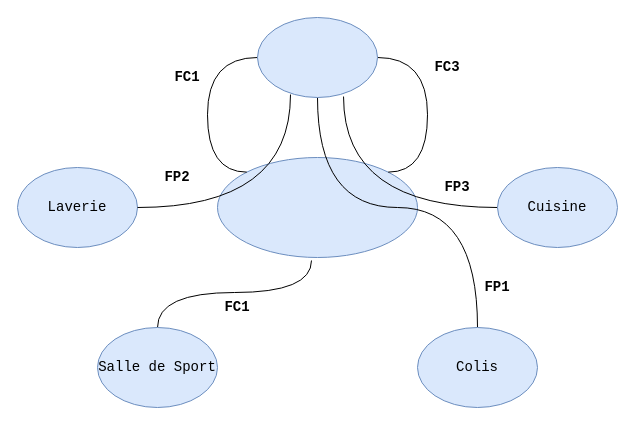
Image size: 635x425. Some labels were removed from this diagram. The centre of each missing label's shape, as x and y in pixels:
"Les Résidents" belongs at pixel 317 57.
"MyCampus" belongs at pixel 317 207.
